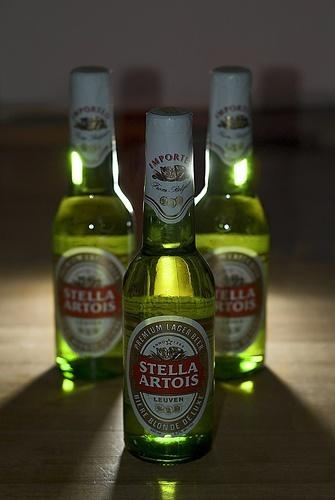bottle: (118, 108, 220, 469), (50, 64, 143, 388), (179, 64, 271, 383)
